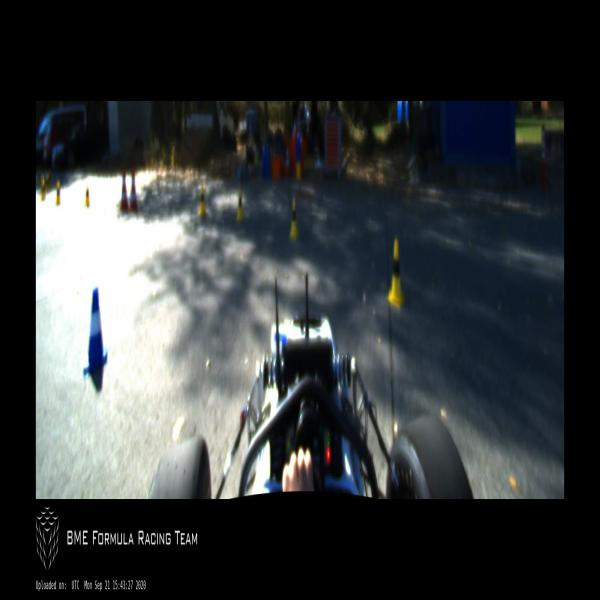blue_cone: (84, 288, 108, 376), (296, 128, 300, 145), (262, 142, 265, 157), (266, 140, 269, 153)
large_orange_cone: (119, 169, 128, 211), (130, 167, 138, 213)
orange_cone: (293, 120, 296, 136)
yellow_cone: (387, 237, 405, 308), (288, 197, 300, 241), (198, 183, 206, 214), (237, 188, 244, 221), (84, 183, 91, 208), (55, 179, 61, 205), (41, 179, 45, 200)
